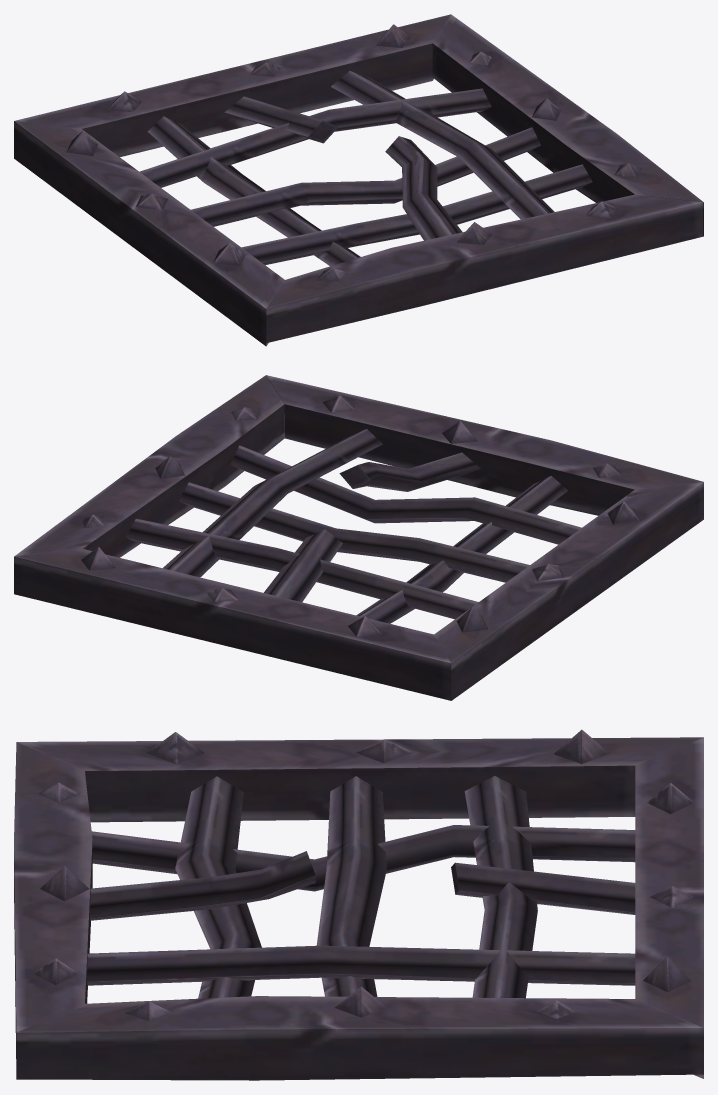
File: lava_floorgrate_01.fbx
3 renders of one model, top to bottom at view 1: azimuth 30°, elevation 25°; view 2: azimuth 150°, elevation 25°; view 3: azimuth 270°, elevation 25°, orthographic. The views are drawn at different scales.
Parts seen in each view (by area): view 1: lava_floorgrate_01_shadows; view 2: lava_floorgrate_01_shadows; view 3: lava_floorgrate_01_shadows.
Part boxes in pixels (left/top/right/bottom): lava_floorgrate_01_shadows: left=14, top=14, right=703, bottom=346; lava_floorgrate_01_shadows: left=14, top=375, right=703, bottom=700; lava_floorgrate_01_shadows: left=14, top=729, right=703, bottom=1080.
Bounding box in the file's own units: 4.03 × 0.6959 × 4.02.
